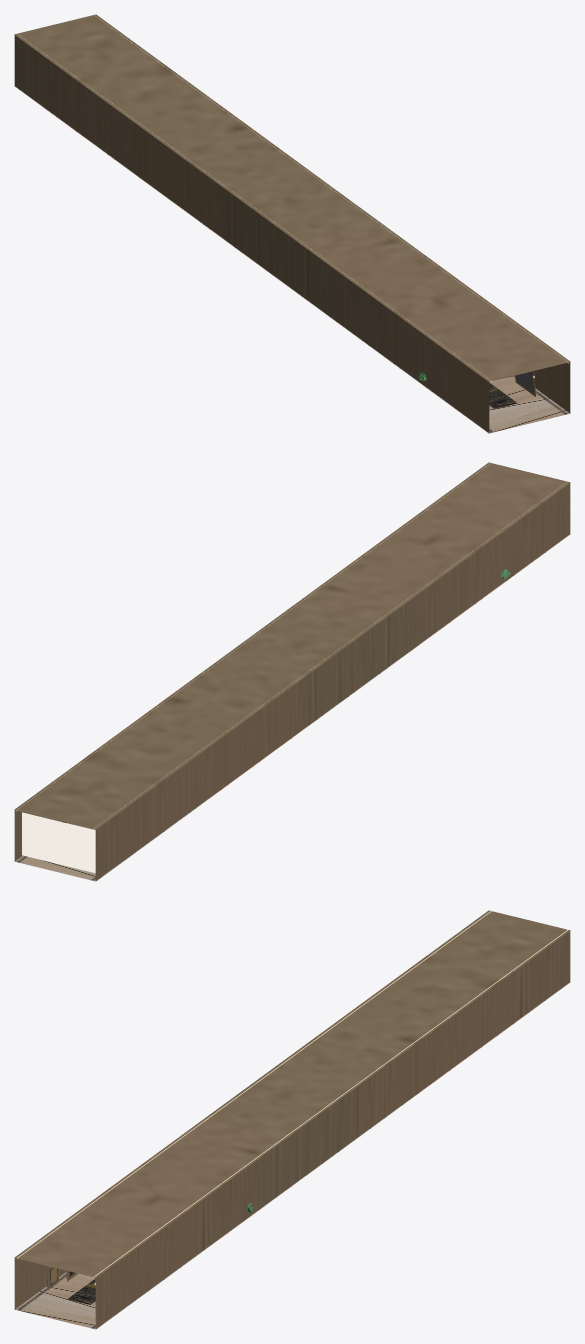
File: gallery_home.glb
3 views of the same model, one above another, from view 1: azimuth 30°, elevation 25°; view 2: azimuth 150°, elevation 25°; view 3: azimuth 330°, elevation 25° (orthographic).
Visible parts, largest first — view 1: CeilingPlane, Wall_left, Floor, Wall_right; view 2: CeilingPlane, Wall_left, FarDoorGlow, Floor; view 3: CeilingPlane, Wall_right, Floor, Wall_left, CoveLight_left, CoveLight_right.
Boxes of the visible parts, x1,y1,x2,y2 form: CeilingPlane: [14, 14, 570, 381]; Wall_left: [14, 35, 489, 432]; Floor: [14, 86, 570, 433]; Wall_right: [534, 362, 570, 413]; CeilingPlane: [14, 462, 570, 829]; Wall_left: [95, 483, 570, 880]; FarDoorGlow: [22, 812, 95, 873]; Floor: [14, 534, 570, 881]; CeilingPlane: [14, 910, 570, 1277]; Wall_right: [95, 931, 570, 1328]; Floor: [14, 982, 570, 1329]; Wall_left: [14, 1258, 66, 1309]; CoveLight_left: [17, 911, 491, 1258]; CoveLight_right: [94, 929, 568, 1277].
Bounding box in the file's own units: 6.56 × 3.62 × 60.
Materials: 41 (36 with a texture image).
